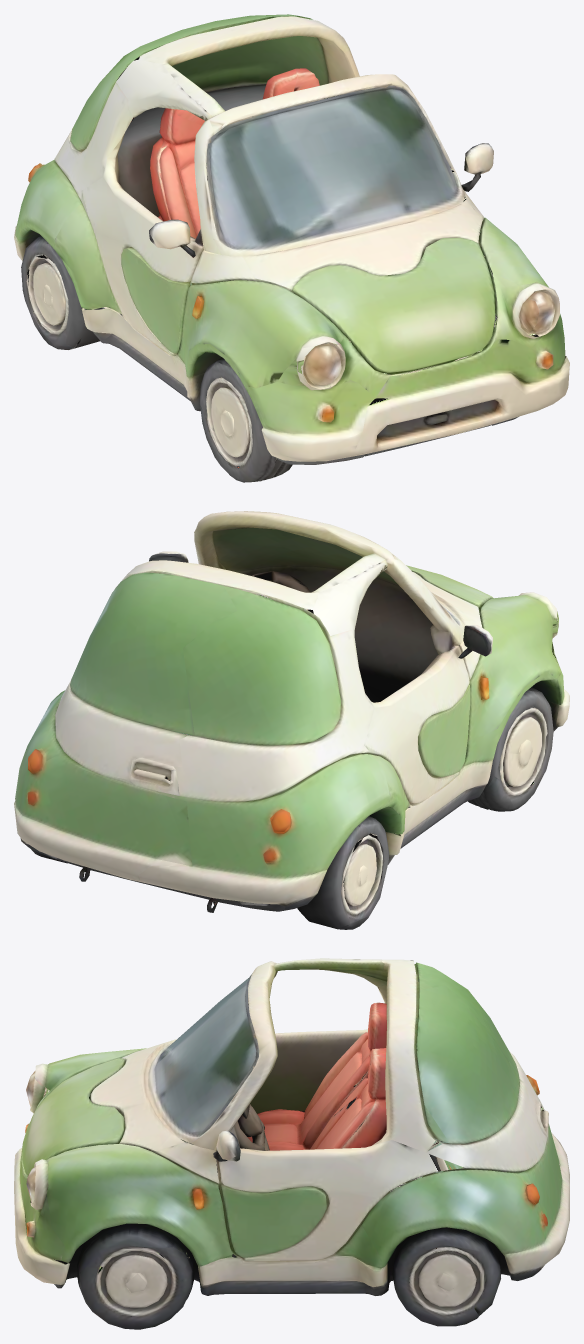
File: sprout-mobile.glb
3 views of the same model, one above another, from view 1: azimuth 30°, elevation 25°; view 2: azimuth 150°, elevation 25°; view 3: azimuth 270°, elevation 25° (orthographic). The views are drawn at different scales.
Visible parts, largest first — view 1: model; view 2: model; view 3: model.
Part boxes in pixels (box(x1,y1,x2,y2)): model: box(14, 14, 569, 482); model: box(14, 511, 569, 929); model: box(14, 958, 569, 1329).
Bounding box in the file's own units: 1.23 × 1.05 × 1.89.
Materials: 1 (1 with a texture image).
